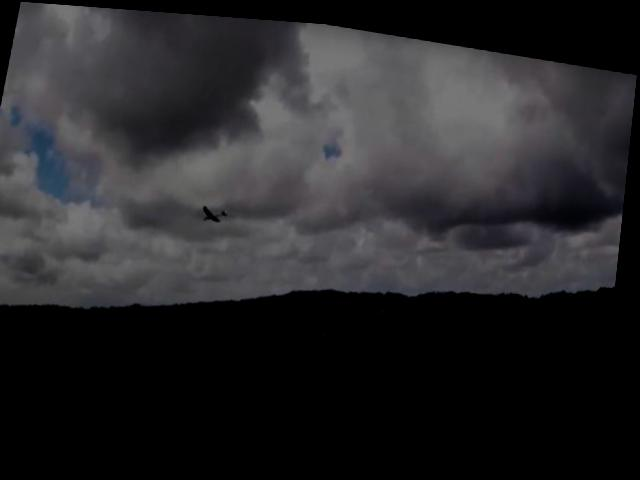iha: (202, 196, 234, 221)
